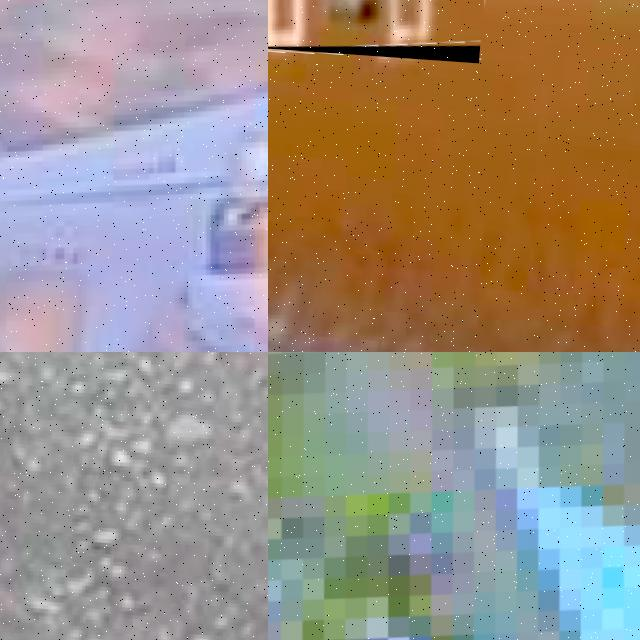drone: (268, 352, 640, 640), (0, 0, 268, 352), (268, 0, 494, 63)
